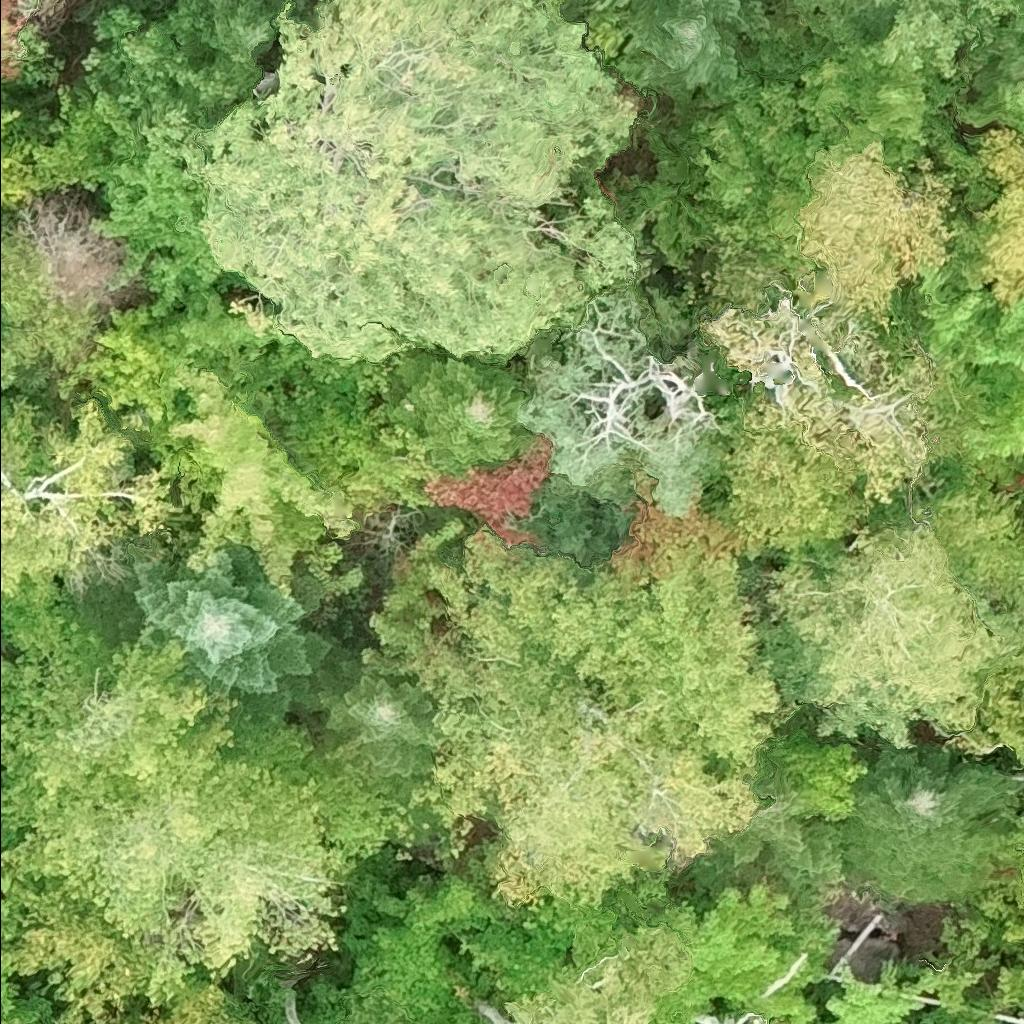crown: (0, 597, 428, 1023), (199, 0, 637, 361), (403, 524, 781, 910), (759, 519, 1023, 753), (0, 391, 182, 652), (160, 361, 358, 595), (94, 541, 343, 714), (303, 854, 517, 1023), (798, 143, 960, 324), (841, 744, 1022, 902), (94, 104, 228, 317), (651, 877, 834, 1023), (683, 742, 845, 900), (81, 4, 261, 130), (672, 83, 817, 236), (275, 380, 447, 508), (607, 0, 787, 121), (298, 661, 437, 803), (807, 14, 925, 177), (505, 922, 691, 1023), (387, 353, 532, 473), (424, 430, 556, 546), (860, 0, 1023, 83), (27, 82, 138, 193), (894, 916, 998, 1014), (765, 729, 871, 824), (159, 0, 316, 64), (920, 285, 1023, 376), (382, 517, 474, 613), (976, 125, 1023, 308), (788, 45, 861, 160), (359, 598, 441, 675), (970, 810, 1023, 919), (785, 0, 899, 50), (967, 12, 1023, 112), (963, 366, 1023, 459), (115, 983, 233, 1023), (0, 107, 41, 209), (821, 982, 920, 1023), (0, 876, 24, 1020), (0, 0, 34, 84), (335, 994, 416, 1023), (995, 74, 1023, 133), (999, 916, 1023, 946), (1010, 874, 1023, 909), (0, 820, 16, 848), (214, 1016, 270, 1023), (0, 1019, 23, 1023), (700, 1022, 702, 1023)
